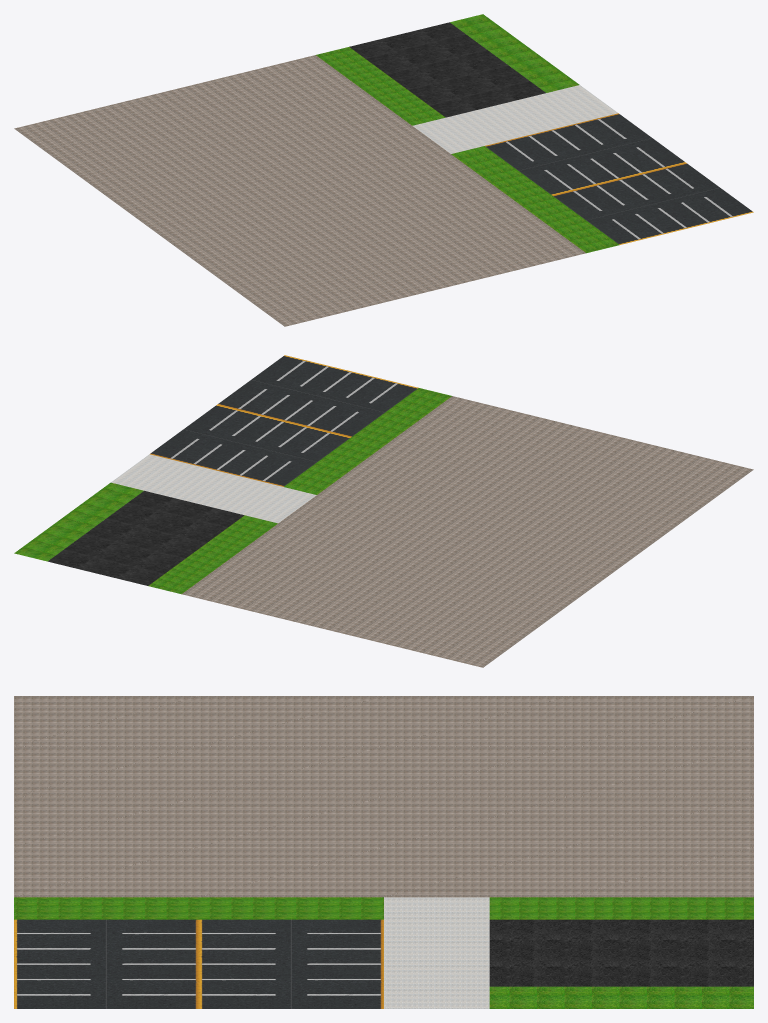
File: pisoZoo.obj
3 renders of one model, top to bottom at view 1: azimuth 30°, elevation 25°; view 2: azimuth 150°, elevation 25°; view 3: azimuth 270°, elevation 25°, orthographic. The views are drawn at different scales.
Visible parts, largest first — view 1: pisoTierra, estacionamiento, carretera, entrada, pastoUno, pastoDos, pastoTres; view 2: pisoTierra, estacionamiento, carretera, entrada, pastoUno, pastoDos, pastoTres; view 3: pisoTierra, estacionamiento, carretera, entrada, pastoUno, pastoDos, pastoTres.
Part boxes in pixels (bbox=[...]): pisoTierra: bbox=[14, 55, 585, 326]; estacionamiento: bbox=[485, 113, 753, 244]; carretera: bbox=[349, 22, 545, 117]; entrada: bbox=[412, 85, 617, 153]; pastoUno: bbox=[451, 146, 619, 253]; pastoDos: bbox=[316, 47, 445, 125]; pastoTres: bbox=[450, 14, 579, 92]; pisoTierra: bbox=[182, 396, 753, 667]; estacionamiento: bbox=[150, 355, 418, 486]; carretera: bbox=[48, 490, 244, 585]; entrada: bbox=[111, 454, 316, 523]; pastoUno: bbox=[284, 388, 451, 494]; pastoDos: bbox=[148, 515, 277, 594]; pastoTres: bbox=[14, 482, 143, 561]; pisoTierra: bbox=[14, 696, 753, 897]; estacionamiento: bbox=[14, 919, 383, 1008]; carretera: bbox=[489, 919, 753, 986]; entrada: bbox=[384, 897, 489, 1008]; pastoUno: bbox=[14, 897, 383, 919]; pastoDos: bbox=[489, 897, 753, 919]; pastoTres: bbox=[489, 986, 753, 1008].
Size of the model in its own units: 140 by 0 by 140.
5 materials, 5 textured.
